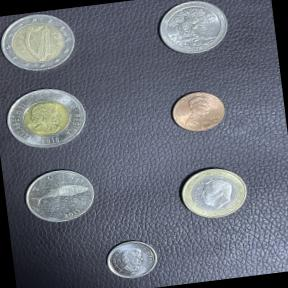coin: (0, 79, 94, 157), (0, 7, 84, 79), (19, 162, 101, 228), (173, 162, 253, 226), (151, 0, 233, 61), (164, 86, 232, 138), (103, 237, 163, 286)
